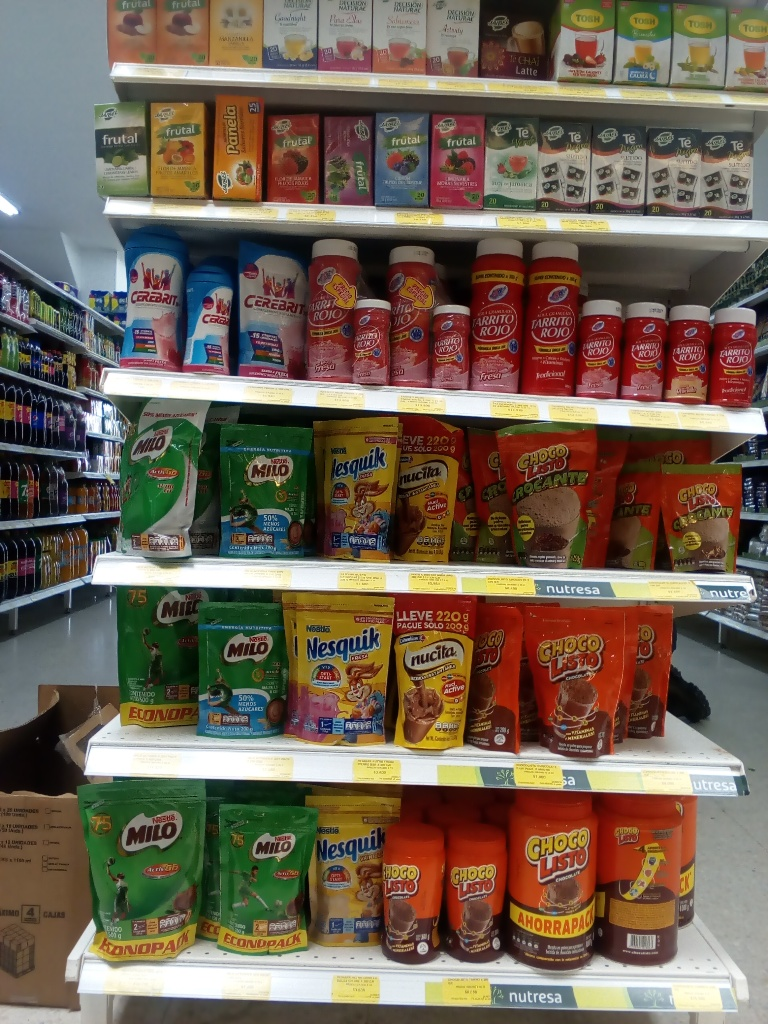COL0170102DYP10000: (661, 462, 740, 572)
COL0170102DYP25000: (508, 424, 598, 569)
COL0170103DYP20000: (468, 607, 530, 764)
COL0170103TRR00100: (503, 789, 596, 968)
COL0170103TRR30000: (377, 814, 446, 965)
COL0170203DYP25000: (209, 791, 314, 963)
COL0170203DYP50000: (83, 785, 207, 967)
COL0170205DYP20000: (193, 601, 298, 741)
COL0170205DYP50000: (112, 395, 211, 554)
COL0170305DYP20000: (282, 592, 382, 750)
COL0170306DYP20000: (304, 787, 398, 958)
